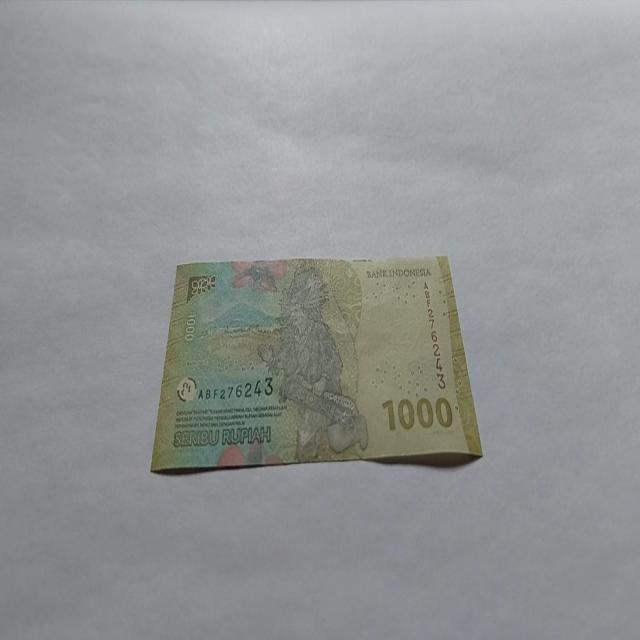seribu rupiah kertas: (149, 252, 483, 474)
